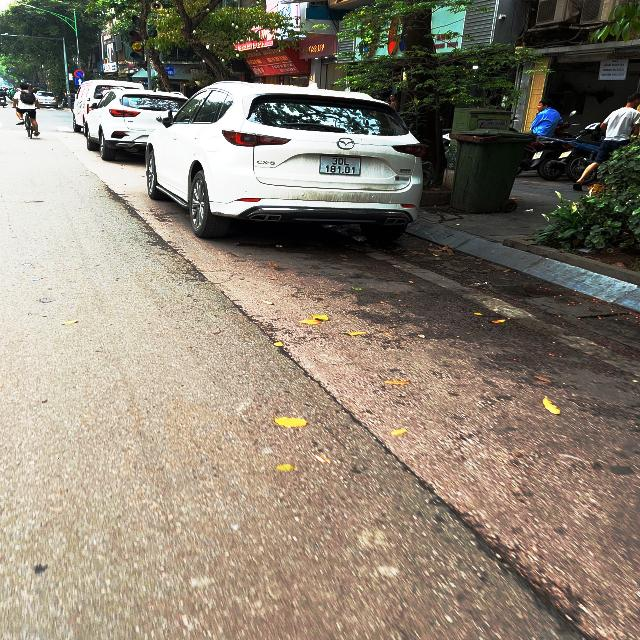license_plate: (317, 155, 366, 178)
